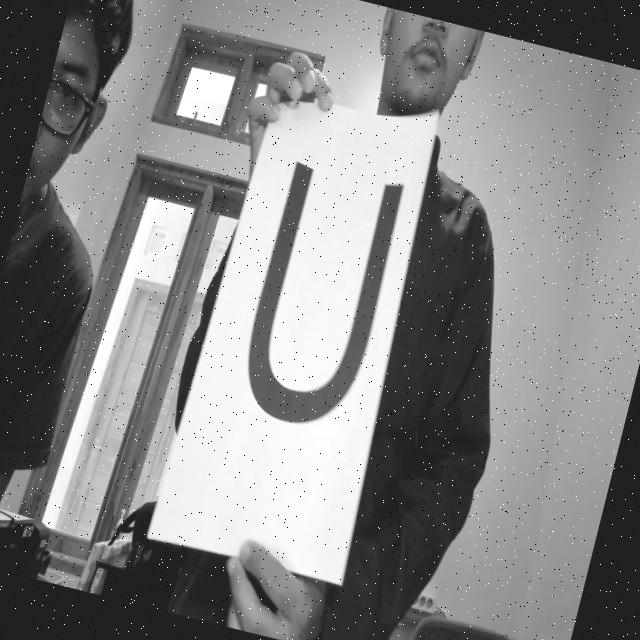u: (211, 144, 426, 472)
